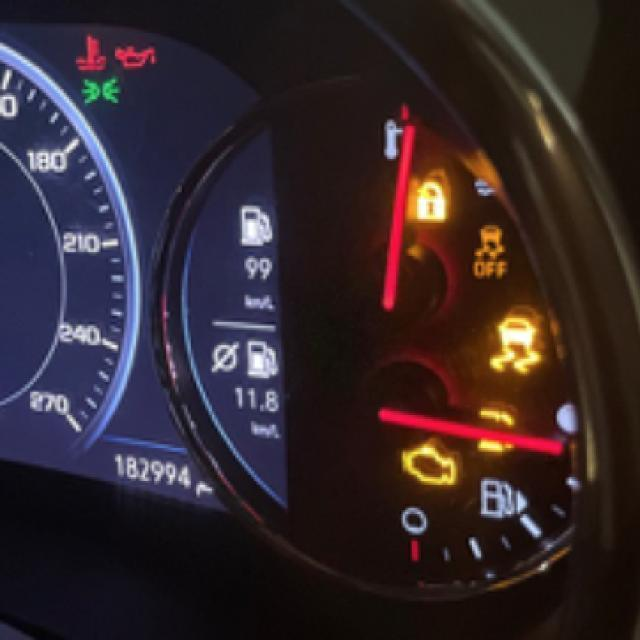High Engine Coolant Temperature: (72, 32, 111, 75)
